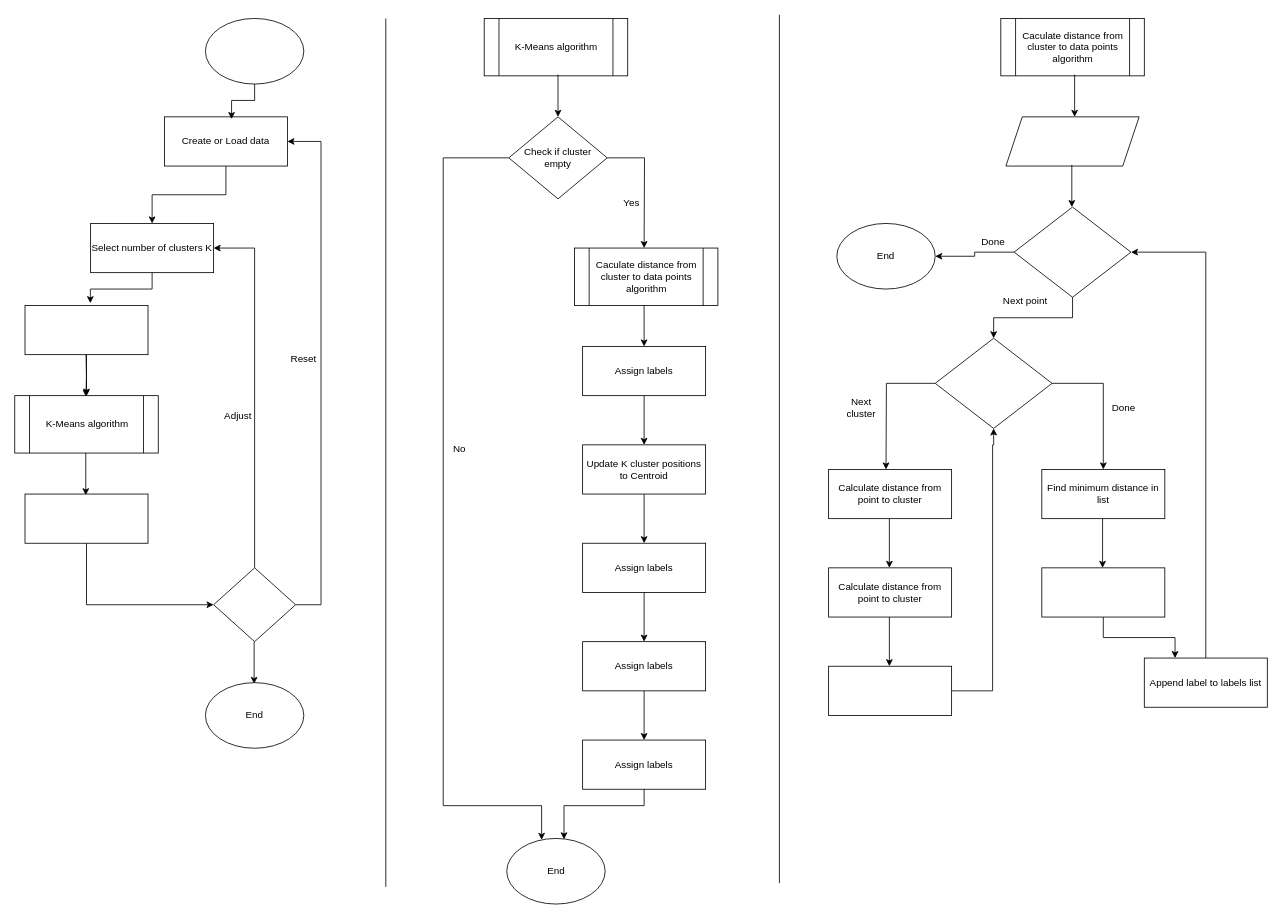
This 1282x918 diagram has some shape labels left out. The box of each missing label's shape, as (x1, y1, x2, y2) in pixels:
Append distance to list: (828, 665, 952, 715)
Assign label based on minimum distance index: (1041, 567, 1165, 617)
Display result and error: (24, 493, 148, 543)
Initialize empty list: distance_to_cluster[] labels[]: (1005, 116, 1139, 166)
Loop through all data points: (1013, 206, 1131, 297)
Loop through all K clusters: (934, 337, 1052, 428)
Random positions of K clusters: (24, 305, 148, 355)
Reset or Adjust: (213, 567, 296, 642)
Start: (205, 18, 304, 84)
